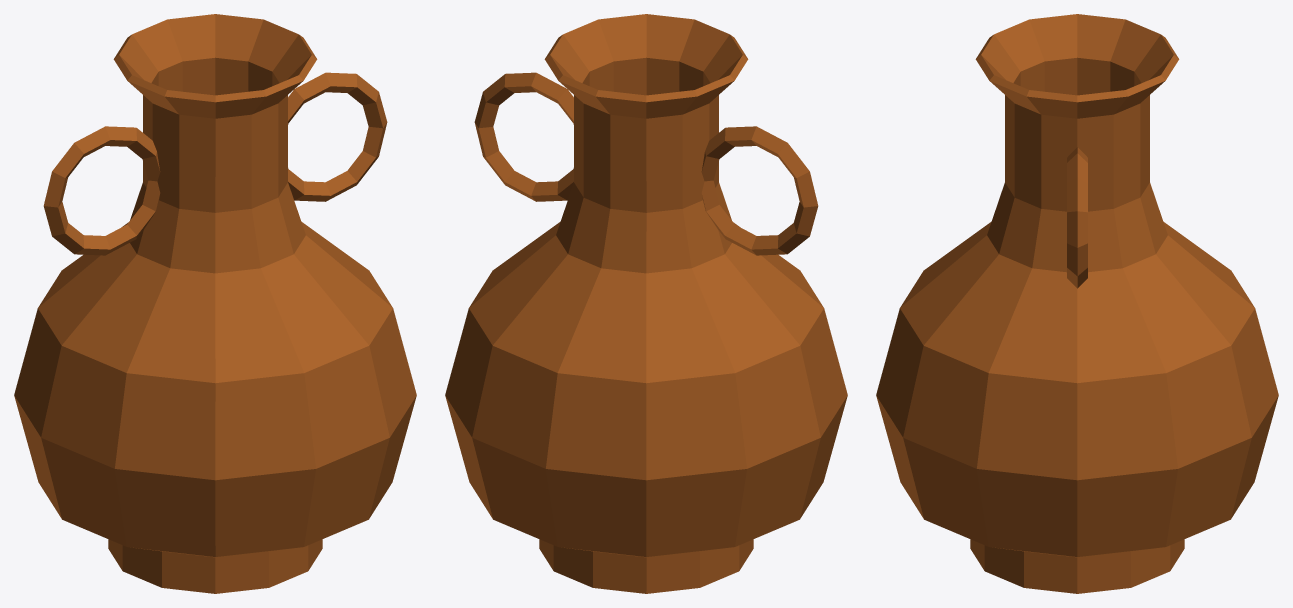
The model's file is SM_pottery_015.FBX.
3 views of the same model, side by side, from view 1: azimuth 30°, elevation 25°; view 2: azimuth 150°, elevation 25°; view 3: azimuth 270°, elevation 25° (orthographic).
Parts seen in each view (by area): view 1: Object099; view 2: Object099; view 3: Object099.
Part boxes in pixels (x1,y1,x2,y2): Object099: [14, 14, 416, 593]; Object099: [445, 14, 847, 593]; Object099: [876, 14, 1278, 593].
Size of the model in its own units: 67.8 by 91.74 by 67.8.
